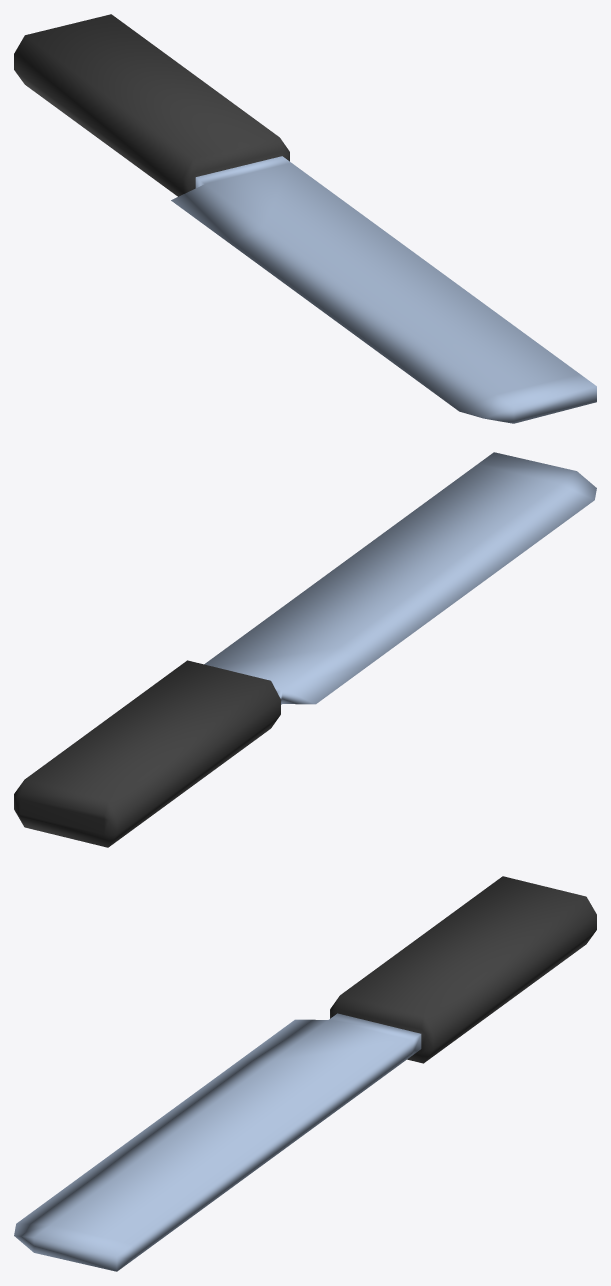
File: knife_2.fbx
3 renders of one model, top to bottom at view 1: azimuth 30°, elevation 25°; view 2: azimuth 150°, elevation 25°; view 3: azimuth 330°, elevation 25°, orthographic. The views are drawn at different scales.
Visible parts, largest first — view 1: knife_2; view 2: knife_2; view 3: knife_2.
Boxes of the visible parts, x1,y1,x2,y2 form: knife_2: [14, 14, 596, 423]; knife_2: [14, 452, 596, 847]; knife_2: [14, 876, 596, 1271].
Size of the model in its own units: 0.0373 by 0.0134 by 0.2419.
